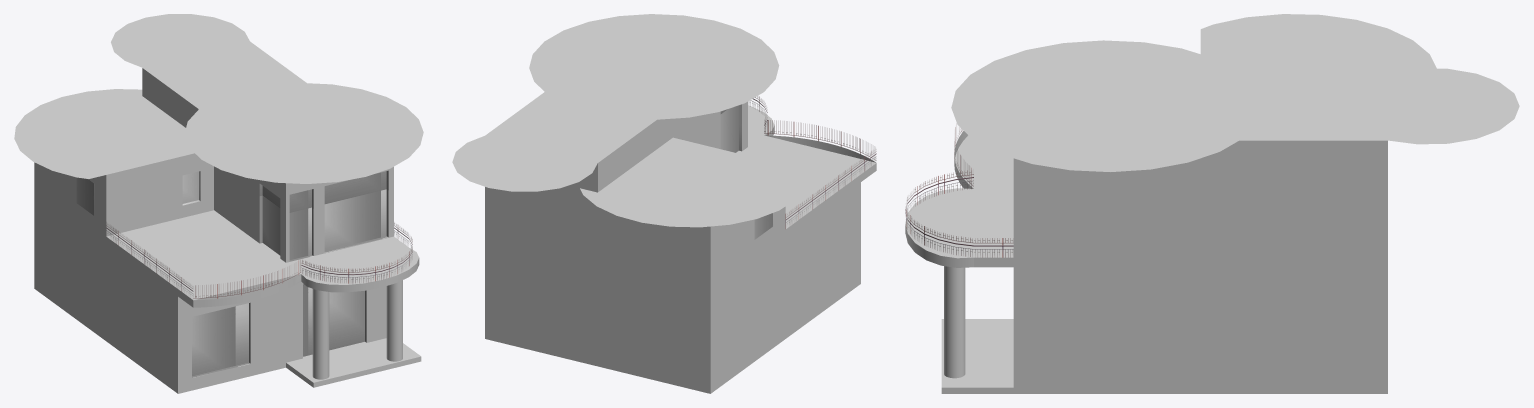
Rendered from villa4.glb.
3 views of the same model, side by side, from view 1: azimuth 30°, elevation 25°; view 2: azimuth 150°, elevation 25°; view 3: azimuth 270°, elevation 25° (orthographic). The views are drawn at different scales.
Parts seen in each view (by area): view 1: _(Loose Entity); view 2: _(Loose Entity); view 3: _(Loose Entity).
Boxes of the visible parts, x1=… form: _(Loose Entity): x1=14, y1=14, x2=423, y2=393; _(Loose Entity): x1=452, y1=14, x2=876, y2=393; _(Loose Entity): x1=905, y1=14, x2=1519, y2=393.
Size of the model in its own units: 12.87 by 7.8 by 17.14.
3 materials, 2 textured.
